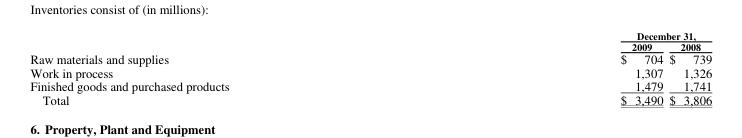table: (29, 28, 711, 107)
table column: (29, 28, 424, 107), (424, 28, 665, 107), (665, 28, 711, 107)
table column header: (29, 28, 711, 51)
table row: (29, 92, 711, 107), (29, 51, 711, 65), (29, 78, 711, 92), (29, 28, 711, 41), (29, 65, 711, 78), (29, 41, 711, 51)
table spanning cell: (424, 28, 711, 41)
